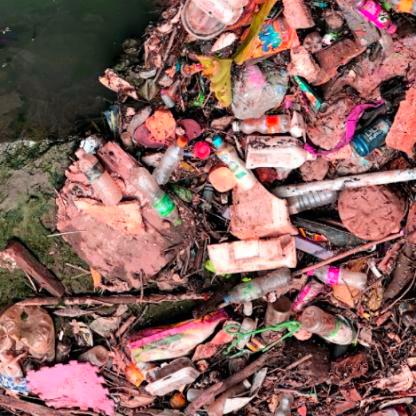Glass: (351, 118, 393, 156)
Plastic: (126, 165, 184, 229), (220, 263, 294, 308), (76, 142, 124, 210), (214, 132, 258, 192), (299, 307, 357, 350), (305, 263, 369, 292), (351, 0, 399, 36), (230, 111, 292, 136), (284, 46, 322, 84), (287, 188, 334, 212), (280, 1, 317, 30), (236, 316, 256, 355)
Trash: (71, 196, 148, 238), (194, 140, 210, 160)
